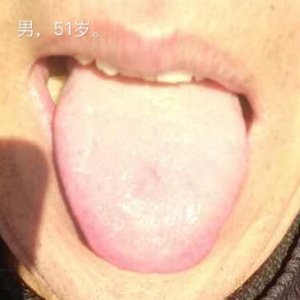st: (51, 95, 251, 270)
